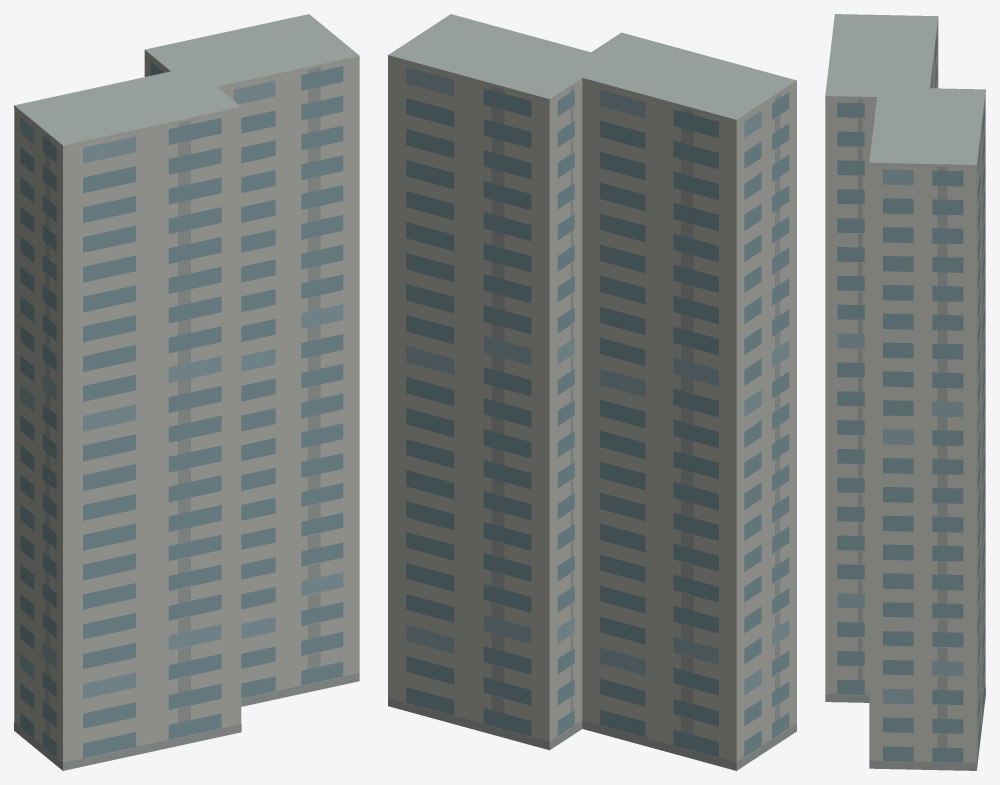
Rendered from residential-3f25e0cf-7521-45fa-845d-8e0795e0701f.glb.
The picture shows the model from 3 angles, left to right: view 1: azimuth 30°, elevation 25°; view 2: azimuth 150°, elevation 25°; view 3: azimuth 270°, elevation 25°; orthographic projection. The views are drawn at different scales.
Parts seen in each view (by area): view 1: residential-3f25e0cf-7521-45fa-845d-8e0795e0701f.tmp; view 2: residential-3f25e0cf-7521-45fa-845d-8e0795e0701f.tmp; view 3: residential-3f25e0cf-7521-45fa-845d-8e0795e0701f.tmp.
Boxes of the visible parts, x1,y1,x2,y2 form: residential-3f25e0cf-7521-45fa-845d-8e0795e0701f.tmp: (14,14,359,770); residential-3f25e0cf-7521-45fa-845d-8e0795e0701f.tmp: (388,14,796,770); residential-3f25e0cf-7521-45fa-845d-8e0795e0701f.tmp: (825,14,985,770).
Bounding box in the file's own units: 30.47 × 57 × 13.7.
